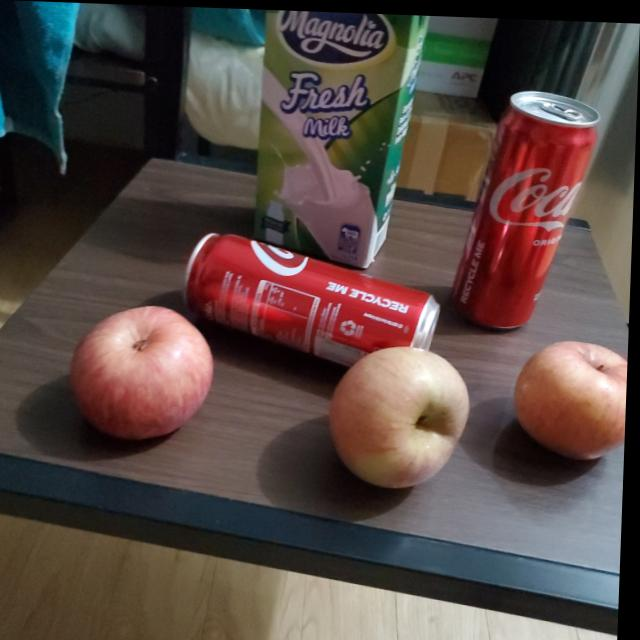apple: (330, 345, 474, 493), (74, 307, 220, 445), (515, 332, 631, 455)
coke: (452, 83, 608, 326), (183, 230, 440, 364)
milk: (252, 8, 433, 271)
